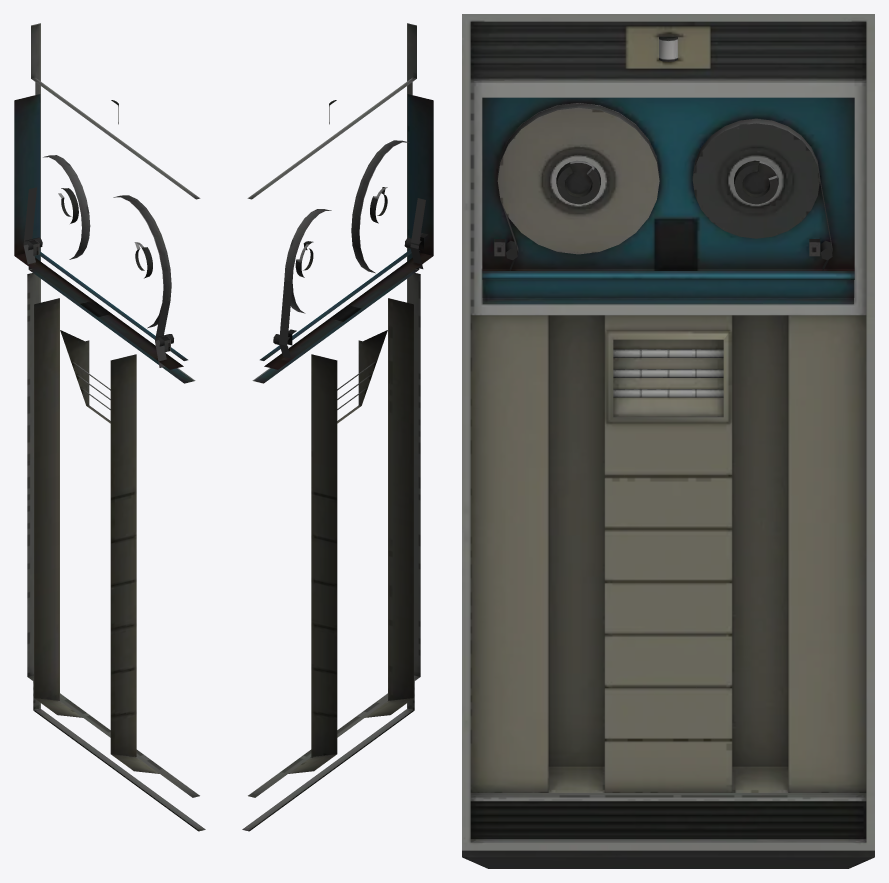
3 views of the same model, side by side, from view 1: azimuth 30°, elevation 25°; view 2: azimuth 150°, elevation 25°; view 3: azimuth 270°, elevation 25° (orthographic). The views are drawn at different scales.
Parts seen in each view (by area): view 1: body0_model0_lod0_mesh0; view 2: body0_model0_lod0_mesh0; view 3: body0_model0_lod0_mesh0.
Boxes of the visible parts, <box> form: body0_model0_lod0_mesh0: <box>14,23,205,831</box>; body0_model0_lod0_mesh0: <box>242,23,433,831</box>; body0_model0_lod0_mesh0: <box>462,14,874,868</box>.
Bounding box in the file's own units: 6.49 × 112 × 47.99.
Materials: 1 (1 with a texture image).
